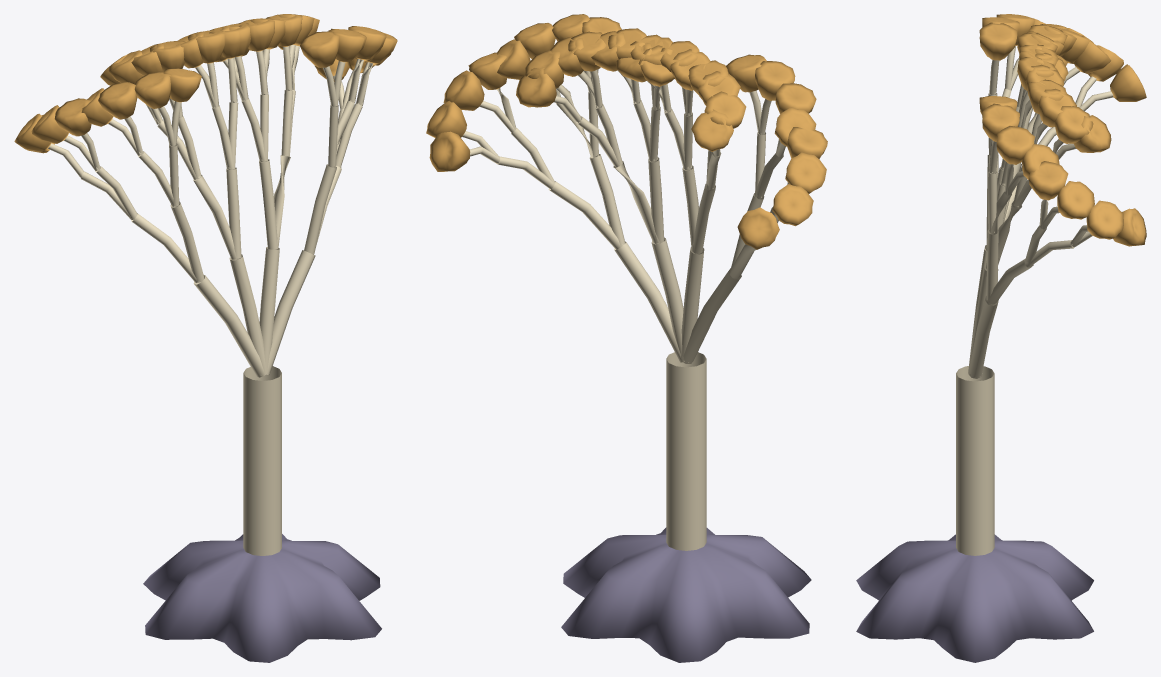
The model's file is landmark_fan.glb.
3 renders of one model, left to right at view 1: azimuth 30°, elevation 25°; view 2: azimuth 150°, elevation 25°; view 3: azimuth 270°, elevation 25°, orthographic. The views are drawn at different scales.
Parts seen in each view (by area): view 1: Landmark; view 2: Landmark; view 3: Landmark.
Boxes of the visible parts, x1,y1,x2,y2 form: Landmark: (14, 14, 397, 662); Landmark: (426, 14, 827, 662); Landmark: (856, 14, 1146, 662).
Size of the model in its own units: 5.23 by 8.06 by 3.62.
